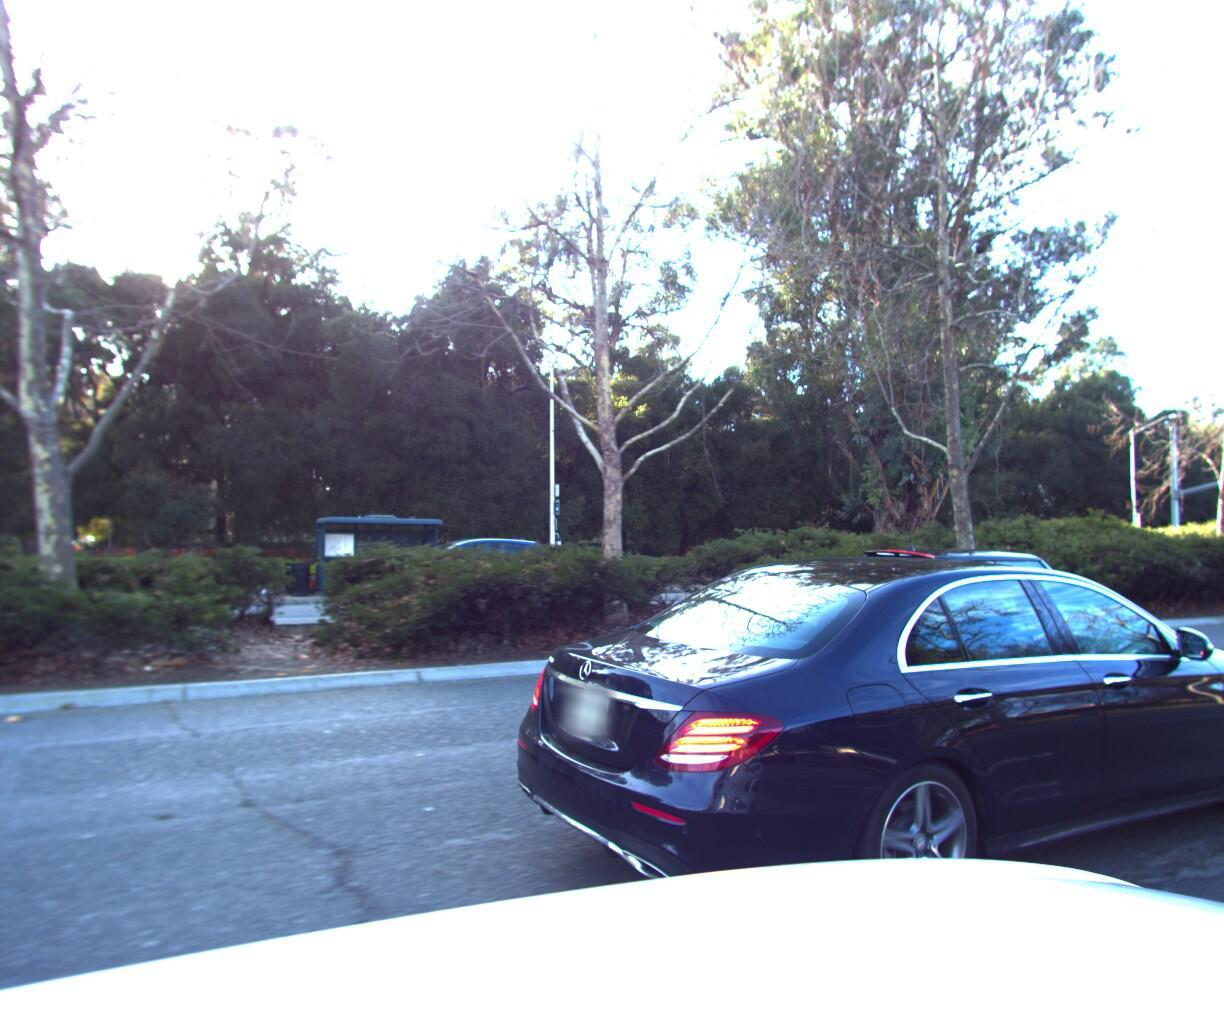car: (497, 548, 1224, 1017), (804, 542, 1133, 704), (350, 531, 615, 623)
